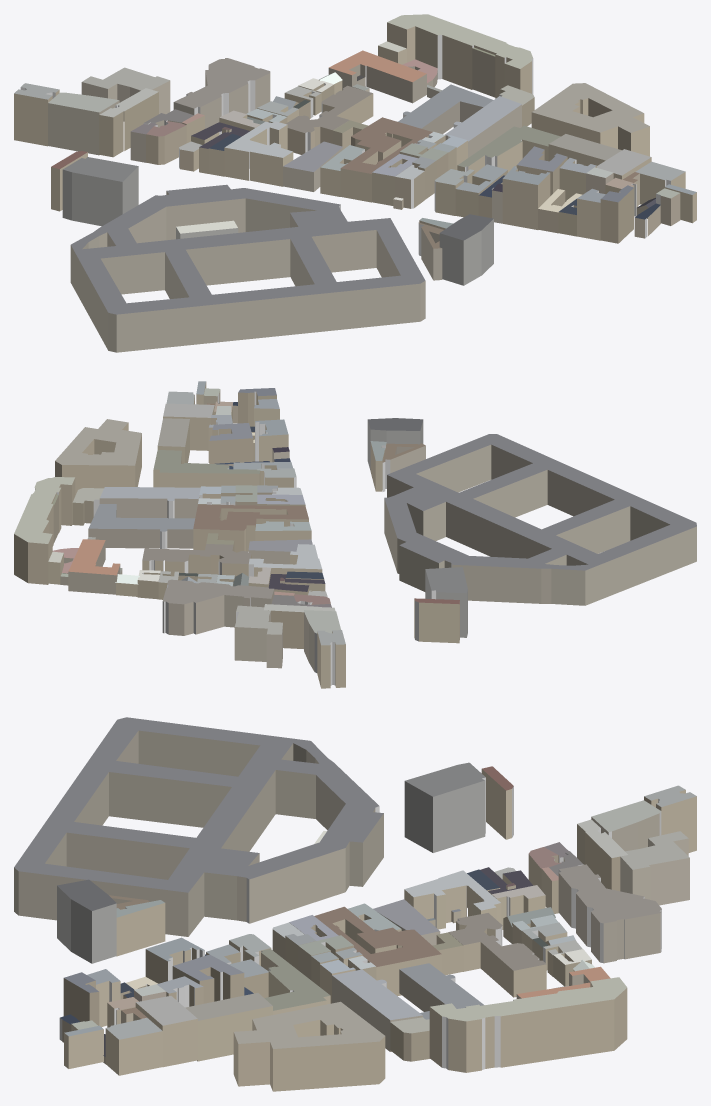
The picture shows the model from 3 angles, top to bottom: view 1: azimuth 30°, elevation 25°; view 2: azimuth 150°, elevation 25°; view 3: azimuth 270°, elevation 25°; orthographic projection. The views are drawn at different scales.
Visible parts, largest first — view 1: tuile; view 2: tuile; view 3: tuile.
Part boxes in pixels (<box>): tuile: <box>14,14,696,352</box>; tuile: <box>14,381,696,688</box>; tuile: <box>14,717,696,1091</box>.
Bounding box in the file's own units: 332 × 28.74 × 282.
